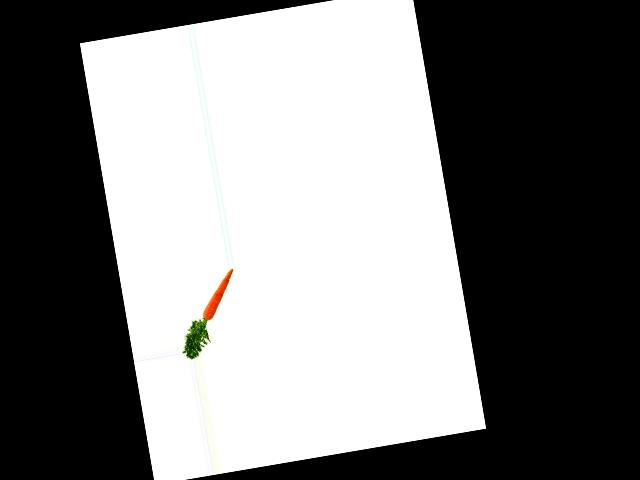carrot: (194, 267, 243, 326)
